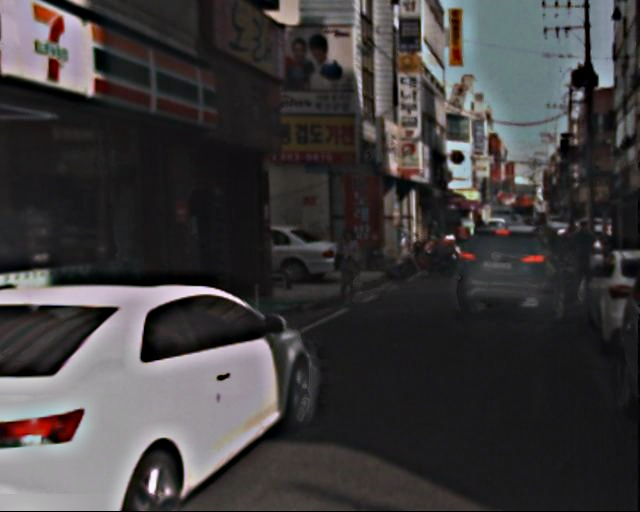person: (335, 230, 365, 303), (570, 221, 597, 287)
